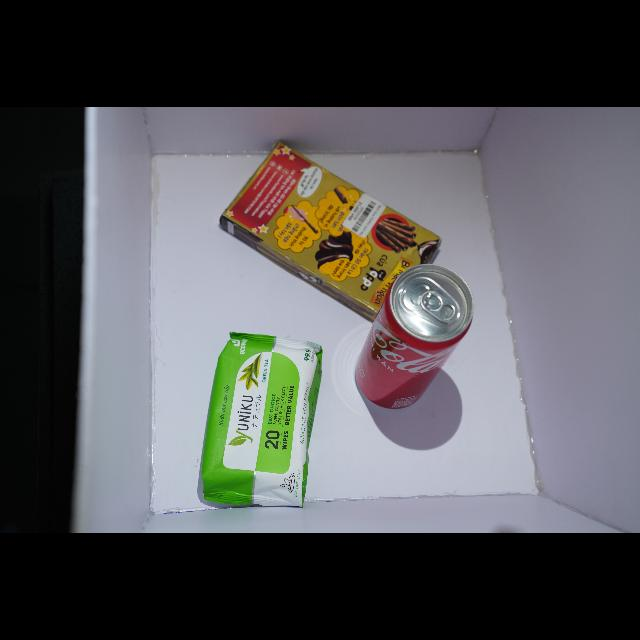banh_toppo_socola: (220, 143, 438, 318)
coca_cola: (355, 264, 473, 410)
khan_giay: (200, 333, 322, 507)
